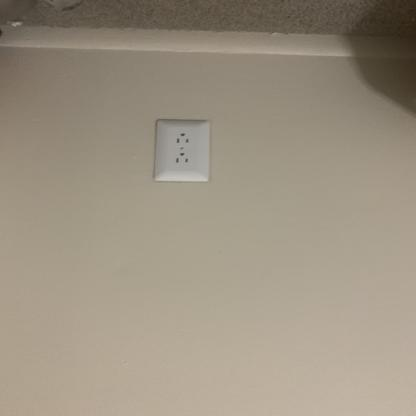OUTLET: (152, 119, 210, 183)
